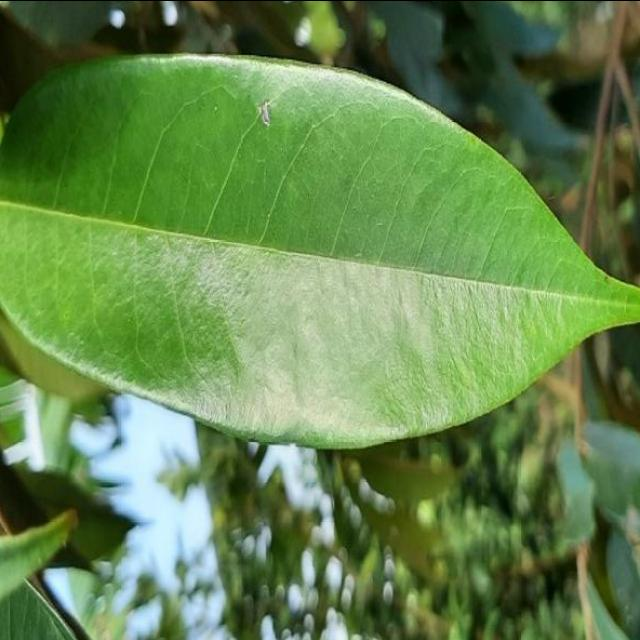No Disease: (0, 40, 640, 455)
